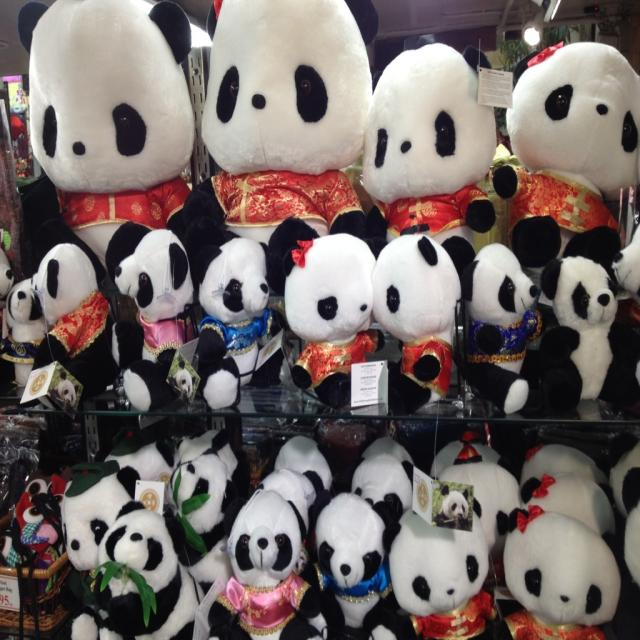panda: (0, 0, 639, 414), (56, 438, 640, 640)
